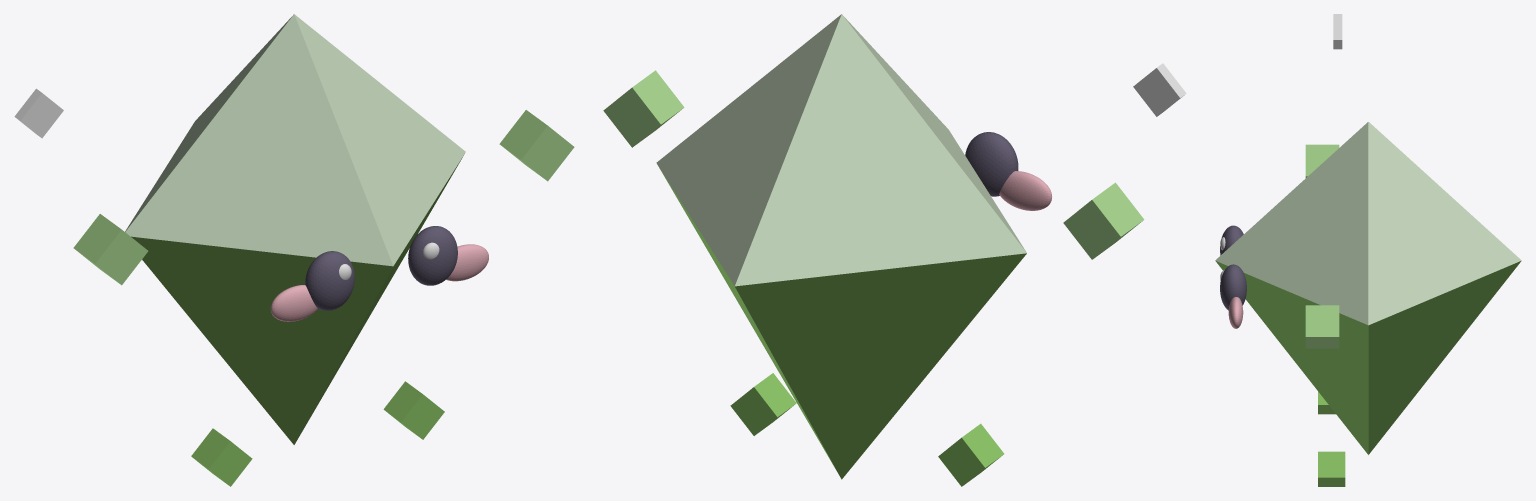
File: kiratsubu_leaf.glb
3 renders of one model, left to right at view 1: azimuth 30°, elevation 25°; view 2: azimuth 150°, elevation 25°; view 3: azimuth 270°, elevation 25°, orthographic. The views are drawn at different scales.
Parts seen in each view (by area): view 1: kiratsubu_0, kiratsubu_1, kiratsubu_2, kiratsubu_3, kiratsubu_10, kiratsubu_7, kiratsubu_5, kiratsubu_4, kiratsubu_6, kiratsubu_9, kiratsubu_12; view 2: kiratsubu_0, kiratsubu_1, kiratsubu_2, kiratsubu_3, kiratsubu_7, kiratsubu_4, kiratsubu_5, kiratsubu_9, kiratsubu_6; view 3: kiratsubu_0, kiratsubu_1, kiratsubu_3, kiratsubu_5, kiratsubu_10, kiratsubu_2, kiratsubu_12, kiratsubu_6, kiratsubu_7.
Boxes of the visible parts, x1,y1,x2,y2 form: kiratsubu_0: (125, 14, 465, 266); kiratsubu_1: (131, 155, 463, 444); kiratsubu_2: (73, 214, 148, 285); kiratsubu_3: (499, 110, 574, 181); kiratsubu_10: (408, 226, 457, 285); kiratsubu_7: (305, 251, 354, 310); kiratsubu_5: (383, 381, 444, 439); kiratsubu_4: (191, 428, 252, 486); kiratsubu_6: (14, 88, 63, 138); kiratsubu_9: (270, 285, 317, 321); kiratsubu_12: (446, 244, 488, 281); kiratsubu_0: (656, 14, 1026, 286); kiratsubu_1: (657, 164, 1026, 479); kiratsubu_2: (1063, 182, 1144, 259); kiratsubu_3: (603, 70, 684, 147); kiratsubu_7: (965, 132, 1018, 196); kiratsubu_4: (938, 423, 1004, 486); kiratsubu_5: (730, 373, 796, 435); kiratsubu_9: (999, 171, 1051, 210); kiratsubu_6: (1133, 63, 1186, 116); kiratsubu_0: (1215, 122, 1521, 325); kiratsubu_1: (1215, 261, 1521, 454); kiratsubu_3: (1305, 305, 1339, 348); kiratsubu_5: (1318, 451, 1345, 486); kiratsubu_10: (1220, 264, 1246, 310); kiratsubu_2: (1305, 144, 1339, 177); kiratsubu_12: (1228, 297, 1243, 328); kiratsubu_6: (1333, 14, 1342, 49); kiratsubu_7: (1220, 225, 1243, 255).
Size of the model in its own units: 1.56 by 1.21 by 1.
